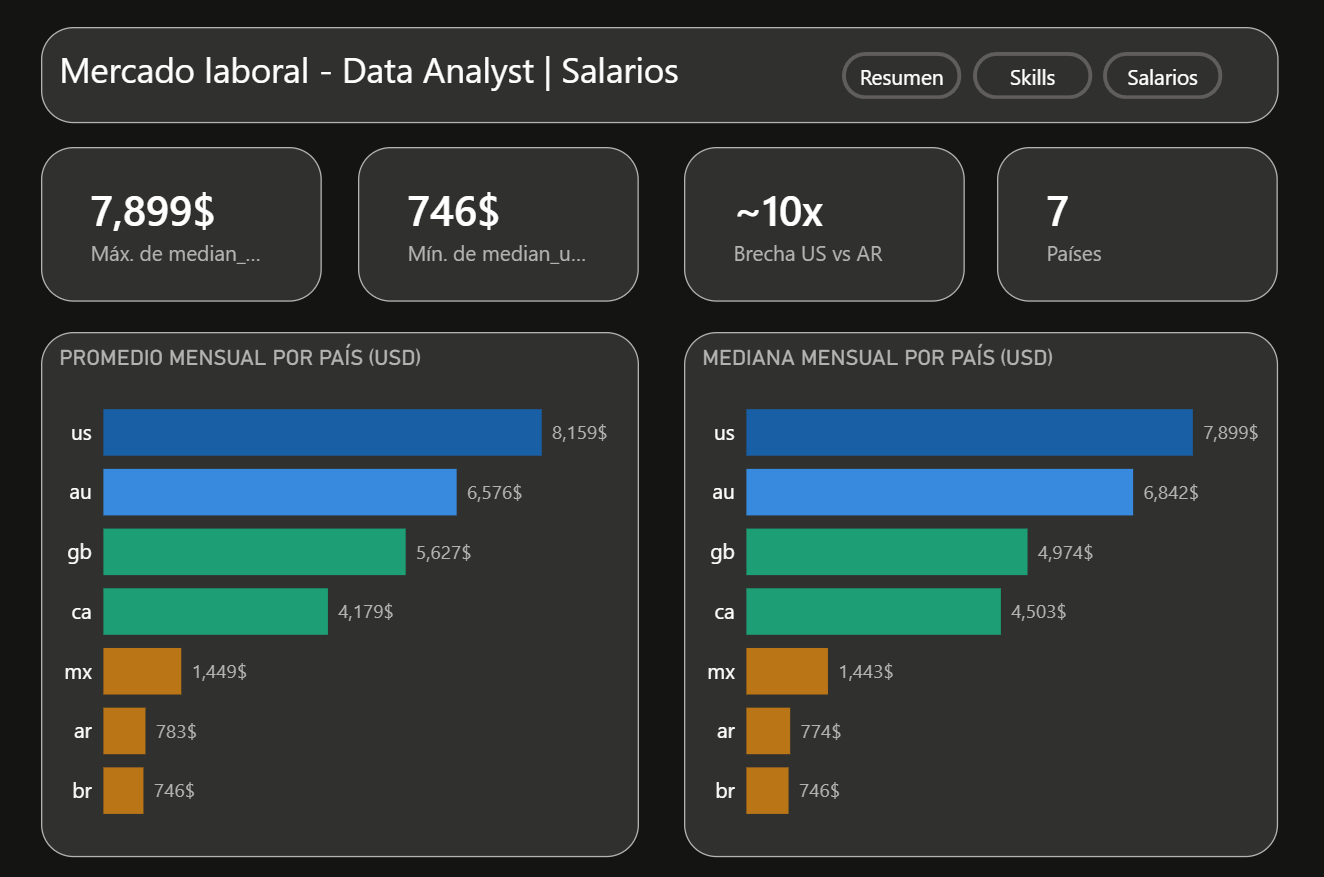

This screenshot's page, from the dashboard's own definition file:
{"tool":"powerbi","page":{"name":"Salarios","canvas":[1020,675],"ordinal":2},"visuals":[{"type":"cardVisual","title":"Total ofertas","fields":{"Data":["Max(5_salary_by_country.median_usd)"]},"box":[32,113,215.6,118.8],"z":0,"group":"g1"},{"type":"cardVisual","title":"Total ofertas","fields":{"Data":["Min(5_salary_by_country.median_usd)"]},"box":[276,113,215.6,118.8],"z":0,"group":"g2"},{"type":"cardVisual","title":"Total ofertas","fields":{"Data":["5_salary_by_country.Brecha US vs AR"]},"box":[527,113,215.6,118.8],"z":0,"group":"g3"},{"type":"cardVisual","title":"Total ofertas","fields":{"Data":["CountNonNull(5_salary_by_country.country)"]},"box":[768,113,215.6,118.8],"z":0,"group":"g4"},{"type":"clusteredBarChart","title":"PROMEDIO MENSUAL POR PAÍS (USD)","fields":{"Category":["5_salary_by_country.country"],"Y":["Sum(5_salary_by_country.mean_usd)"]},"box":[32,255,460,404],"z":0},{"type":"clusteredBarChart","title":"MEDIANA MENSUAL POR PAÍS (USD)","fields":{"Category":["5_salary_by_country.country"],"Y":["Sum(5_salary_by_country.median_usd)"]},"box":[527,255,457,404],"z":1000},{"type":"textbox","box":[32.2,21.1,952.2,74.4],"z":2000},{"type":"group","id":"g1","title":"Grupo 1","box":[32,113,216,119],"z":3000},{"type":"group","id":"g2","title":"Grupo 1","box":[276,113,216,119],"z":4001},{"type":"group","id":"g3","title":"Grupo 1","box":[527,113,216,119],"z":4002},{"type":"group","id":"g4","title":"Grupo 1","box":[768,113,216,119],"z":4003},{"type":"actionButton","title":"Resumen","box":[648.2,40,91.8,36.4],"z":4004},{"type":"actionButton","title":"Resumen","box":[749.1,40,91.8,36.4],"z":4005},{"type":"actionButton","title":"Resumen","box":[849.1,40,91.8,36.4],"z":4006}]}

Visuals, with their boxes in screenshot pixels (x1, y1, x2, y2), scaled from the page's 1020x675 canvas onto the 1324x877 screenshot:
"Total ofertas" cardVisual: (x1=42, y1=147, x2=321, y2=301)
"Total ofertas" cardVisual: (x1=358, y1=147, x2=638, y2=301)
"Total ofertas" cardVisual: (x1=684, y1=147, x2=964, y2=301)
"Total ofertas" cardVisual: (x1=997, y1=147, x2=1277, y2=301)
"PROMEDIO MENSUAL POR PAÍS (USD)" clusteredBarChart: (x1=42, y1=331, x2=639, y2=856)
"MEDIANA MENSUAL POR PAÍS (USD)" clusteredBarChart: (x1=684, y1=331, x2=1277, y2=856)
textbox: (x1=42, y1=27, x2=1278, y2=124)
"Grupo 1" group: (x1=42, y1=147, x2=322, y2=301)
"Grupo 1" group: (x1=358, y1=147, x2=639, y2=301)
"Grupo 1" group: (x1=684, y1=147, x2=964, y2=301)
"Grupo 1" group: (x1=997, y1=147, x2=1277, y2=301)
"Resumen" actionButton: (x1=841, y1=52, x2=961, y2=99)
"Resumen" actionButton: (x1=972, y1=52, x2=1092, y2=99)
"Resumen" actionButton: (x1=1102, y1=52, x2=1221, y2=99)
